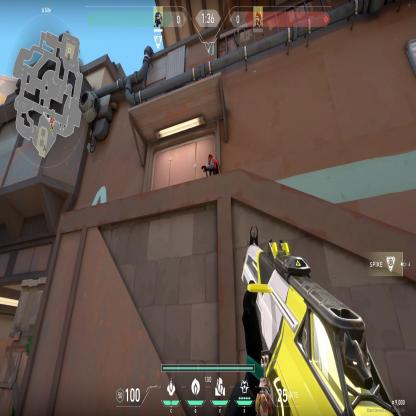enemy: (201, 153, 221, 175)
